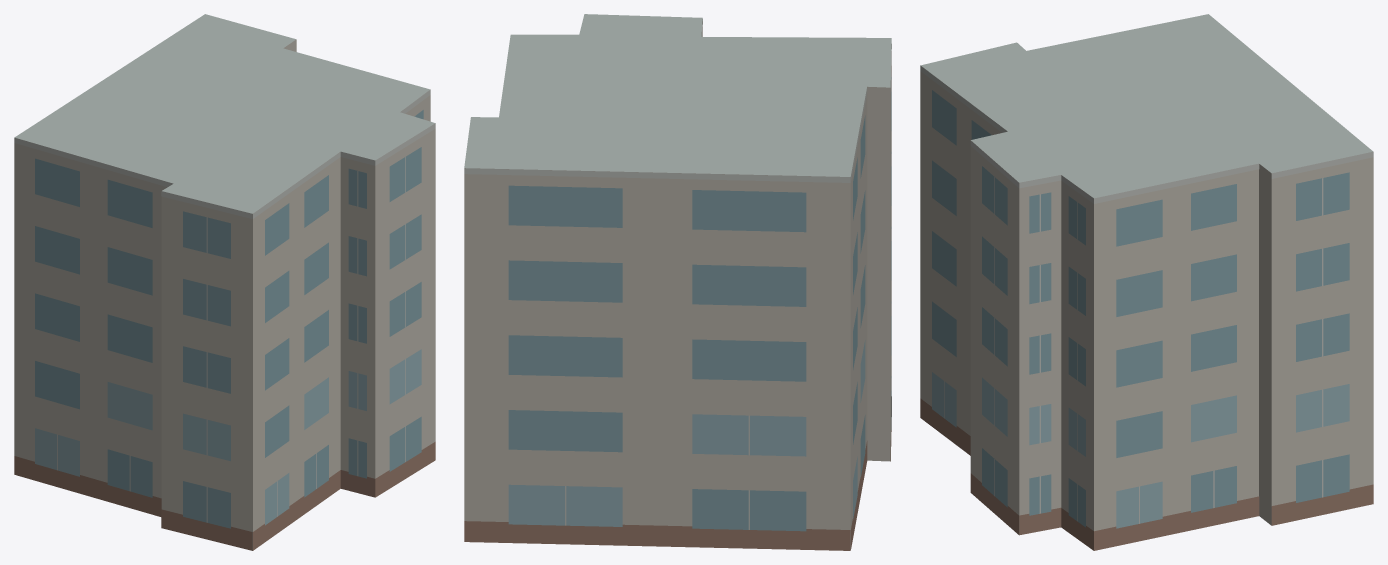
Rendered from survey-upis-32977517.glb.
3 views of the same model, side by side, from view 1: azimuth 30°, elevation 25°; view 2: azimuth 150°, elevation 25°; view 3: azimuth 270°, elevation 25° (orthographic). The views are drawn at different scales.
Visible parts, largest first — view 1: survey-upis-32977517.tmp; view 2: survey-upis-32977517.tmp; view 3: survey-upis-32977517.tmp.
Part boxes in pixels (x1,y1,x2,y2): survey-upis-32977517.tmp: [14, 14, 435, 550]; survey-upis-32977517.tmp: [464, 14, 891, 550]; survey-upis-32977517.tmp: [920, 14, 1373, 550].
Bounding box in the file's own units: 17.12 × 15.25 × 17.77.
